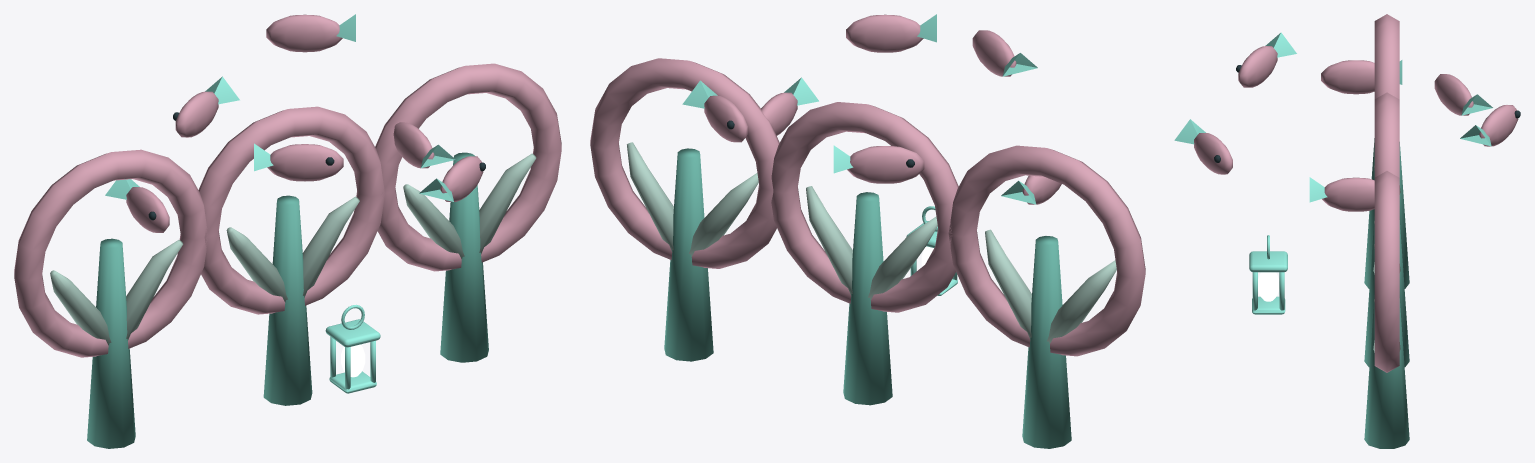
File: discovery_glassfin.glb
3 views of the same model, side by side, from view 1: azimuth 30°, elevation 25°; view 2: azimuth 150°, elevation 25°; view 3: azimuth 270°, elevation 25° (orthographic). The views are drawn at different scales.
Visible parts, largest first — view 1: discovery_glassfin_part_0, discovery_glassfin_part_3, discovery_glassfin_part_6, discovery_glassfin_part_5, discovery_glassfin_part_4, discovery_glassfin_part_2, discovery_glassfin_part_1; view 2: discovery_glassfin_part_0, discovery_glassfin_part_5, discovery_glassfin_part_2, discovery_glassfin_part_6, discovery_glassfin_part_3, discovery_glassfin_part_1, discovery_glassfin_part_4; view 3: discovery_glassfin_part_0, discovery_glassfin_part_1, discovery_glassfin_part_4, discovery_glassfin_part_3, discovery_glassfin_part_2, discovery_glassfin_part_6, discovery_glassfin_part_5, discovery_glassfin_part_7.
Boxes of the visible parts, box(x1,y1,x2,y2) form: discovery_glassfin_part_0: box(14, 63, 561, 448); discovery_glassfin_part_3: box(254, 143, 343, 181); discovery_glassfin_part_6: box(266, 14, 355, 52); discovery_glassfin_part_5: box(173, 76, 239, 137); discovery_glassfin_part_4: box(105, 179, 169, 232); discovery_glassfin_part_2: box(419, 156, 485, 201); discovery_glassfin_part_1: box(393, 122, 455, 168); discovery_glassfin_part_0: box(590, 58, 1145, 448); discovery_glassfin_part_5: box(833, 145, 924, 183); discovery_glassfin_part_2: box(846, 14, 936, 52); discovery_glassfin_part_6: box(682, 80, 747, 142); discovery_glassfin_part_3: box(972, 30, 1037, 76); discovery_glassfin_part_1: box(761, 77, 818, 135); discovery_glassfin_part_4: box(1001, 175, 1061, 204); discovery_glassfin_part_0: box(1249, 14, 1409, 448); discovery_glassfin_part_1: box(1309, 177, 1374, 211); discovery_glassfin_part_4: box(1321, 60, 1402, 94); discovery_glassfin_part_3: box(1236, 32, 1296, 87); discovery_glassfin_part_2: box(1174, 119, 1232, 174); discovery_glassfin_part_6: box(1460, 105, 1520, 146); discovery_glassfin_part_5: box(1434, 74, 1492, 115); discovery_glassfin_part_7: box(1258, 272, 1279, 301).
Bounding box in the file's own units: 5.58 × 3.09 × 3.37.
